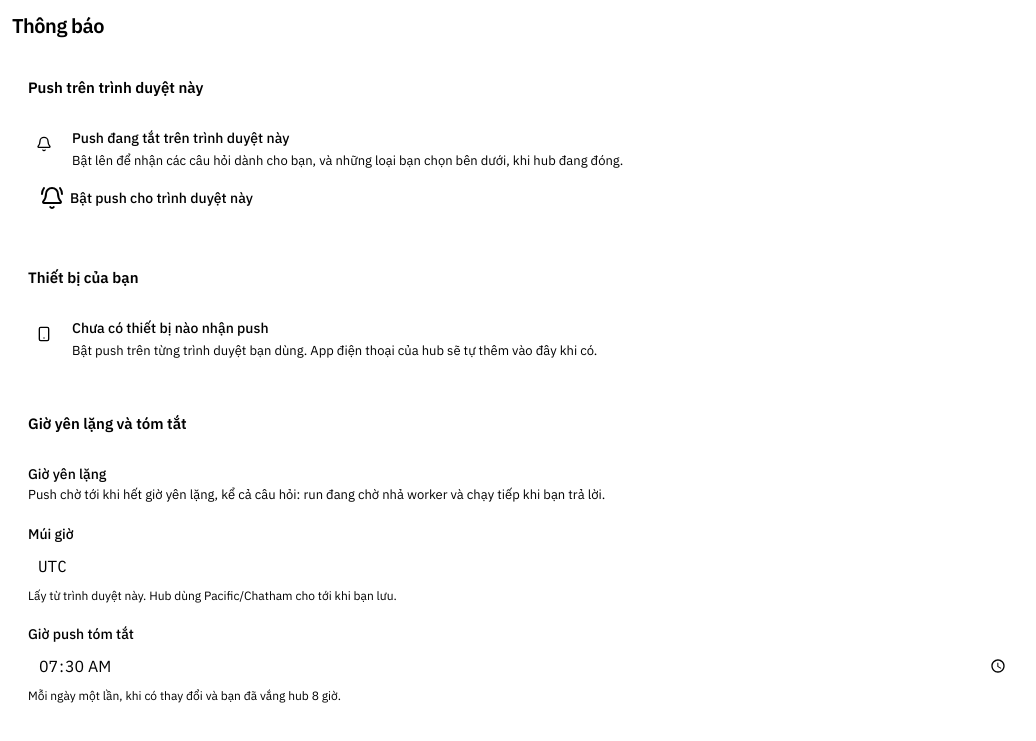
Test case: push on this browser › turns push on from one click: asks permission, subscribes with the hub's key and adds this browser's device
Click the button "Bật push cho trình duyệt này": coordinates (146, 198) left=28, top=182, right=265, bottom=214
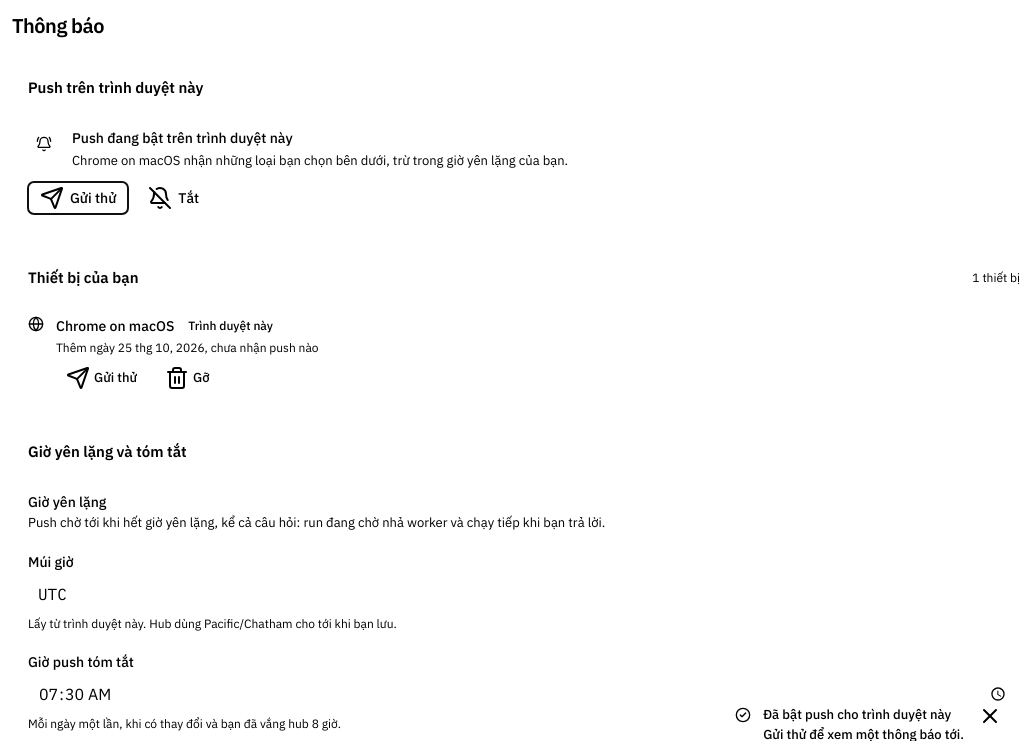
Expected: the text with test id "push-device-here" reads "Trình duyệt này", left=188, top=318, right=273, bottom=333
Expected: the text "Đã bật push cho trình duyệt này" is shown, left=763, top=706, right=964, bottom=724
